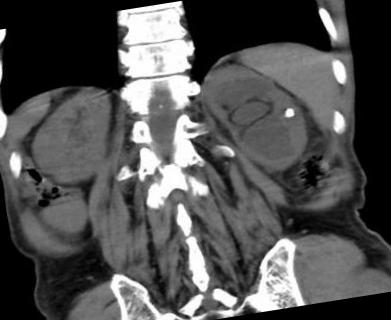Tas_Var: (282, 104, 296, 121)
